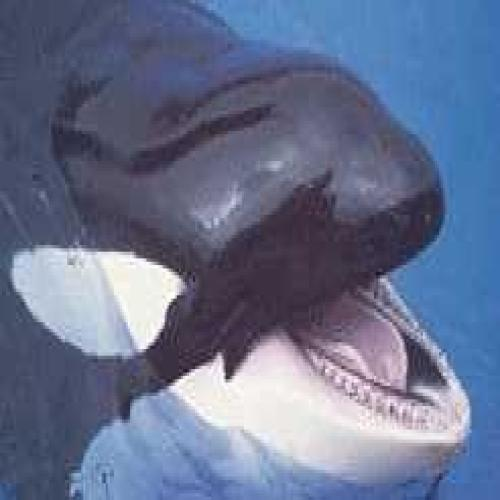killer_whale-endangered: (0, 0, 481, 478)
